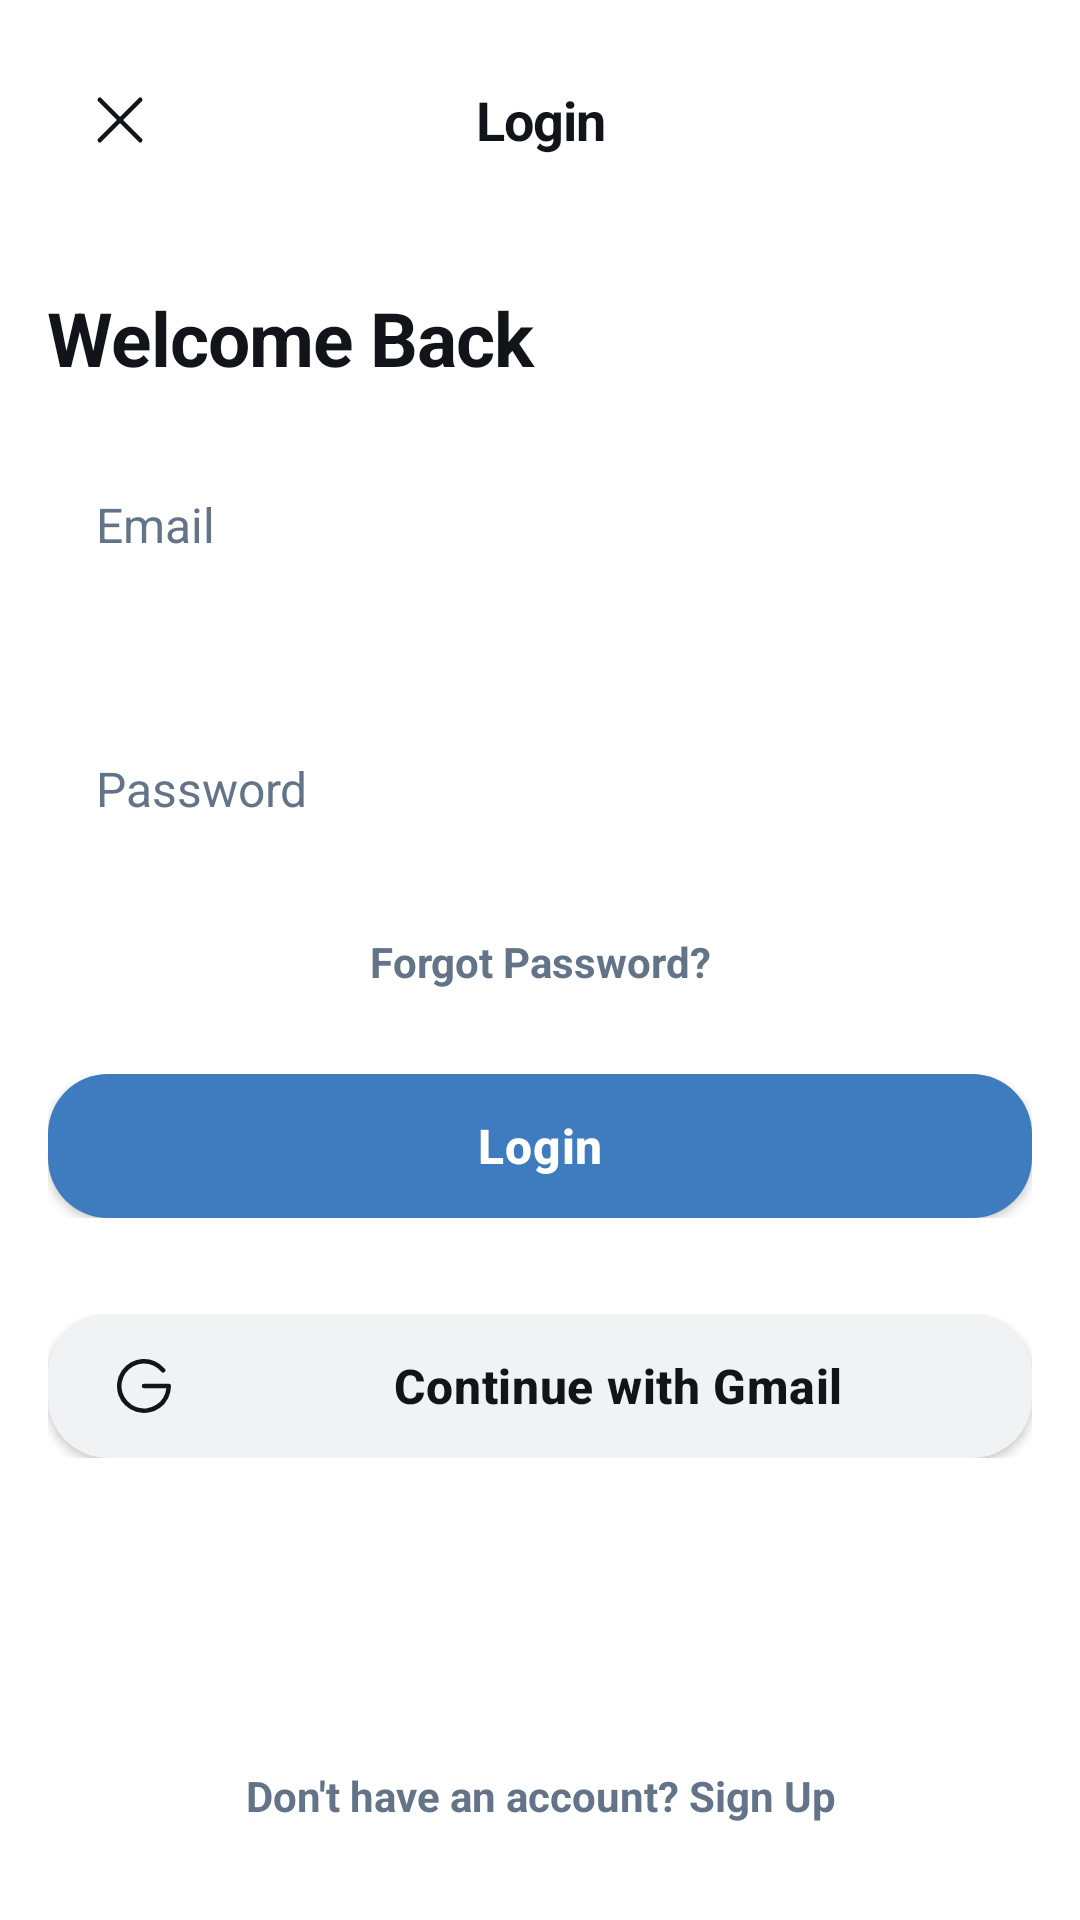

Icons on this 1080 × 1920 Android screen, each with its box as Rect(x1, y1, x2, y2):
Close: Rect(97, 97, 143, 143)
